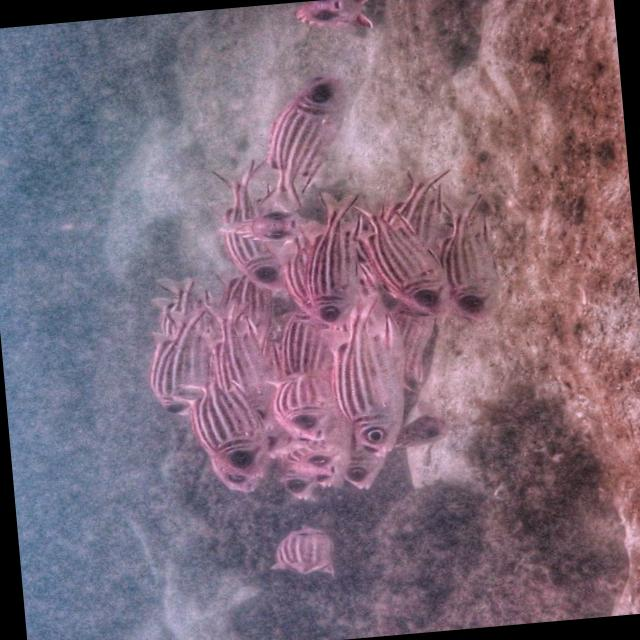Asker Baligi: (224, 64, 364, 222), (344, 165, 456, 348), (168, 358, 282, 493)
